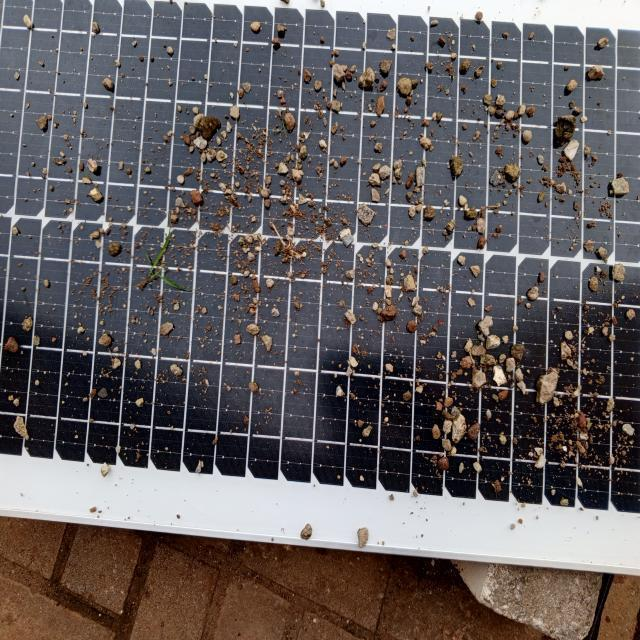Anomaly Solar Panel: (3, 0, 640, 532)
Surface Contaminant: (4, 6, 639, 500)
